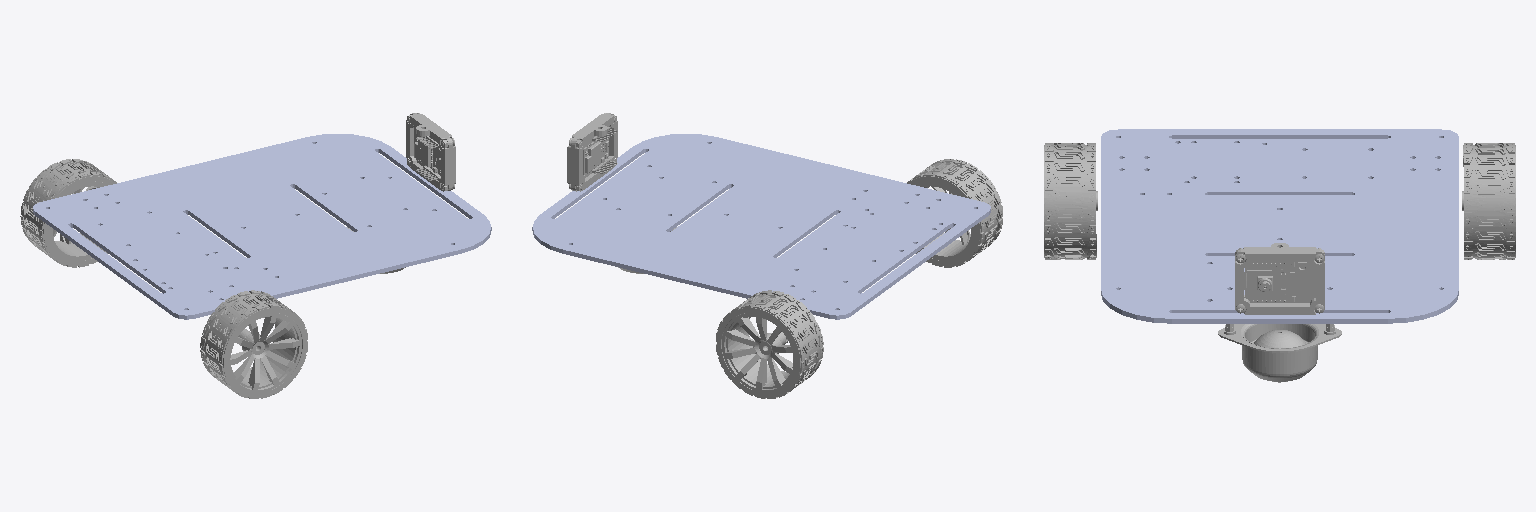
The robot description file, URDF, robot "diff_robot":
<?xml version="1.0"?>
<!-- This URDF was automatically created by SolidWorks to URDF Exporter! Originally created by [author] ([email redacted]) 
     Commit Version: 1.6.0-4-g7f85cfe  Build Version: 1.6.7995.38578
     For more information, please see http://wiki.ros.org/sw_urdf_exporter -->
<robot name="diff_robot">
  <!-- ========== LINKS & JOINTS (unchanged from your original) ========== -->
  <link name="base_footprint">
    <inertial>
      <origin xyz="0.078647 5.687E-05 0.05405" rpy="0 0 0" />
      <mass value="0.178" />
      <inertia ixx="0.00047393" ixy="3.6359E-07" ixz="-4.6904E-22" iyy="0.00070361" iyz="-2.1921E-20" izz="0.0011773" />
    </inertial>
    <visual>
      <origin xyz="0 0 0" rpy="0 0 0" />
      <geometry>
        <mesh filename="package://diff_robot/meshes/base_footprint.STL" />
      </geometry>
      <material name="">
        <color rgba="0.79216 0.81961 0.93333 1" />
      </material>
    </visual>
    <collision>
      <origin xyz="0 0 0" rpy="0 0 0" />
      <geometry>
        <mesh filename="package://diff_robot/meshes/base_footprint.STL" />
      </geometry>
    </collision>
  </link>

  <link name="base_link">
    <inertial>
      <origin xyz="0.051677 0.0029767 -0.043025" rpy="0 0 0" />
      <mass value="0.677" />
      <inertia ixx="0.0005329" ixy="1.0246E-07" ixz="-6.796E-09" iyy="0.00077273" iyz="-4.6344E-07" izz="0.0012951" />
    </inertial>
    <visual>
      <origin xyz="0 0 0" rpy="0 0 0" />
      <geometry>
        <mesh filename="package://diff_robot/meshes/base_link.STL" />
      </geometry>
      <material name="">
        <color rgba="0.79216 0.81961 0.93333 1" />
      </material>
    </visual>
    <collision>
      <origin xyz="0 0 0" rpy="0 0 0" />
      <geometry>
        <mesh filename="package://diff_robot/meshes/base_link.STL" />
      </geometry>
    </collision>
  </link>

  <joint name="base_link_joint" type="fixed">
    <origin xyz="0 0 0.03255" rpy="3.1416 0 0" />
    <parent link="base_footprint" />
    <child link="base_link" />
    <axis xyz="0 0 0" />
  </joint>

  <link name="left_wheel">
    <inertial>
      <origin xyz="-0.00044875 -5.7255E-05 -8.9504E-06" rpy="0 0 0" />
      <mass value="0.039" />
      <inertia ixx="2.822E-05" ixy="4.8128E-09" ixz="-4.3123E-10" iyy="2.8181E-05" iyz="1.4639E-10" izz="4.608E-05" />
    </inertial>
    <visual>
      <origin xyz="0 0 0" rpy="0 0 0" />
      <geometry>
        <mesh filename="package://diff_robot/meshes/left_wheel.STL" />
      </geometry>
      <material name="">
        <color rgba="0.75294 0.75294 0.75294 1" />
      </material>
    </visual>
    <collision>
      <origin xyz="0 0 0" rpy="0 0 0" />
      <geometry>
        <mesh filename="package://diff_robot/meshes/left_wheel.STL" />
      </geometry>
    </collision>
  </link>

  <joint name="left_wheel_joint" type="continuous">
    <origin xyz="0 -0.1168 0" rpy="-1.5708 0 -3.1416" />
    <parent link="base_link" />
    <child link="left_wheel" />
    <axis xyz="0 0 1" />
  </joint>

  <link name="right_wheel">
    <inertial>
      <origin xyz="-0.00044732 -6.7476E-05 8.9504E-06" rpy="0 0 0" />
      <mass value="0.039" />
      <inertia ixx="2.822E-05" ixy="6.2644E-09" ixz="3.7486E-10" iyy="2.8181E-05" iyz="2.586E-10" izz="4.608E-05" />
    </inertial>
    <visual>
      <origin xyz="0 0 0" rpy="0 0 0" />
      <geometry>
        <mesh filename="package://diff_robot/meshes/right_wheel.STL" />
      </geometry>
      <material name="">
        <color rgba="0.75294 0.75294 0.75294 1" />
      </material>
    </visual>
    <collision>
      <origin xyz="0 0 0" rpy="0 0 0" />
      <geometry>
        <mesh filename="package://diff_robot/meshes/right_wheel.STL" />
      </geometry>
    </collision>
  </link>

  <joint name="right_wheel_joint" type="continuous">
    <origin xyz="0 0.1168 0" rpy="-1.5708 0 -3.1416" />
    <parent link="base_link" />
    <child link="right_wheel" />
    <axis xyz="0 0 1" />
  </joint>

  <link name="caster_wheel">
    <inertial>
      <origin xyz="1.2545E-07 -2.7756E-17 0.0038165" rpy="0 0 0" />
      <mass value="0.122" />
      <inertia ixx="1.7798E-05" ixy="-1.1156E-20" ixz="4.7639E-20" iyy="1.6175E-05" iyz="3.8939E-21" izz="2.4954E-05" />
    </inertial>
    <visual>
      <origin xyz="0 0 0" rpy="0 0 0" />
      <geometry>
        <mesh filename="package://diff_robot/meshes/caster_wheel.STL" />
      </geometry>
      <material name="">
        <color rgba="0.75294 0.75294 0.75294 1" />
      </material>
    </visual>
    <collision>
      <origin xyz="0 0 0" rpy="0 0 0" />
      <geometry>
        <mesh filename="package://diff_robot/meshes/caster_wheel.STL" />
      </geometry>
    </collision>
  </link>

  <joint name="caster_wheel_joint" type="fixed">
    <origin xyz="0.165 0 0.0208" rpy="-3.1416 0 0" />
    <parent link="base_link" />
    <child link="caster_wheel" />
    <axis xyz="0 0 1" />
  </joint>

  <link name="esp32_cam_link">
    <inertial>
      <origin xyz="-0.0082738 0.0079268 0.00032292" rpy="0 0 0" />
      <mass value="0.01" />
      <inertia ixx="3.2036E-06" ixy="6.2464E-10" ixz="1.2633E-08" iyy="1.2669E-06" iyz="6.8227E-10" izz="1.9738E-06" />
    </inertial>
    <visual>
      <origin xyz="0 0 0" rpy="0 0 0" />
      <geometry>
        <mesh filename="package://diff_robot/meshes/esp32_cam_link.STL" />
      </geometry>
      <material name="">
        <color rgba="0.75294 0.75294 0.75294 1" />
      </material>
    </visual>
    <collision>
      <origin xyz="0 0 0" rpy="0 0 0" />
      <geometry>
        <mesh filename="package://diff_robot/meshes/esp32_cam_link.STL" />
      </geometry>
    </collision>
  </link>

  <joint name="esp32_cam_joint" type="fixed">
    <origin xyz="0.20857 0.0083034 -0.043987" rpy="-3.1416 0 0" />
    <parent link="base_link" />
    <child link="esp32_cam_link" />
    <axis xyz="0 0 0" />
  </joint>

</robot>

--- What the picture shows (computed from the rendered views, not written in the file) ---
The picture shows the robot from 3 angles, left to right: view 1: azimuth 30°, elevation 25°; view 2: azimuth 150°, elevation 25°; view 3: azimuth 270°, elevation 25°; orthographic projection.
Model diff_robot with 6 links and 5 joints (2 continuous, 3 fixed), rooted at base_footprint, posed all joints at 0.
Visible links, largest first — view 1: base_footprint, right_wheel, left_wheel, esp32_cam_link; view 2: base_footprint, left_wheel, right_wheel, esp32_cam_link; view 3: base_footprint, right_wheel, left_wheel, esp32_cam_link, caster_wheel.
Boxes of the visible links, box(x1,y1,x2,y2) form: base_footprint: box(33, 134, 491, 319); right_wheel: box(200, 290, 307, 398); left_wheel: box(20, 159, 116, 267); esp32_cam_link: box(406, 113, 455, 191); base_footprint: box(532, 134, 990, 319); left_wheel: box(716, 290, 823, 398); right_wheel: box(907, 159, 1002, 267); esp32_cam_link: box(567, 113, 617, 191); base_footprint: box(1101, 129, 1458, 323); right_wheel: box(1044, 143, 1097, 259); left_wheel: box(1462, 143, 1515, 259); esp32_cam_link: box(1235, 243, 1324, 314); caster_wheel: box(1218, 324, 1341, 382).
Size in the robot's own frame: 0.2536 by 0.2626 by 0.0965 metres.
5 mesh visuals loaded from 6 distinct referenced files (5 binary STL); not drawn: 1 (reference not matched to a file when rendering).